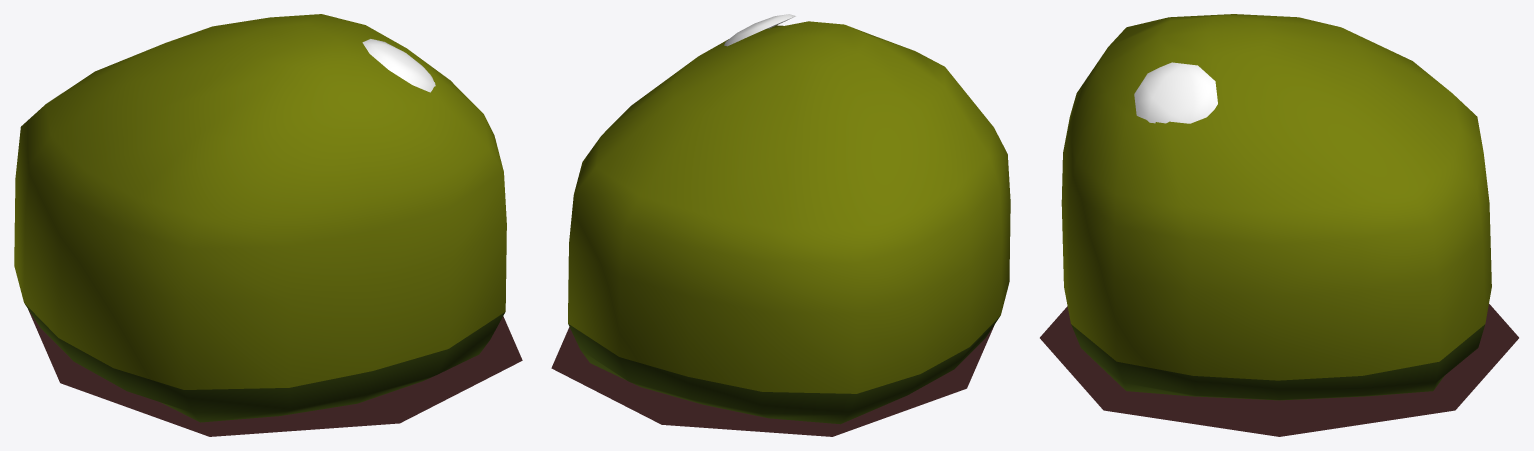
The model's file is Oozium238Mesh.AcidRain.glb.
The picture shows the model from 3 angles, left to right: view 1: azimuth 30°, elevation 25°; view 2: azimuth 150°, elevation 25°; view 3: azimuth 270°, elevation 25°; orthographic projection. The views are drawn at different scales.
Visible parts, largest first — view 1: Oozium238Mesh.AcidRain; view 2: Oozium238Mesh.AcidRain; view 3: Oozium238Mesh.AcidRain.
Boxes of the visible parts, bbox=[...] form: Oozium238Mesh.AcidRain: bbox=[14, 14, 522, 436]; Oozium238Mesh.AcidRain: bbox=[551, 14, 1010, 436]; Oozium238Mesh.AcidRain: bbox=[1040, 14, 1518, 436].
Bounding box in the file's own units: 2.04 × 1.44 × 2.07.
1 material, 1 textured.
